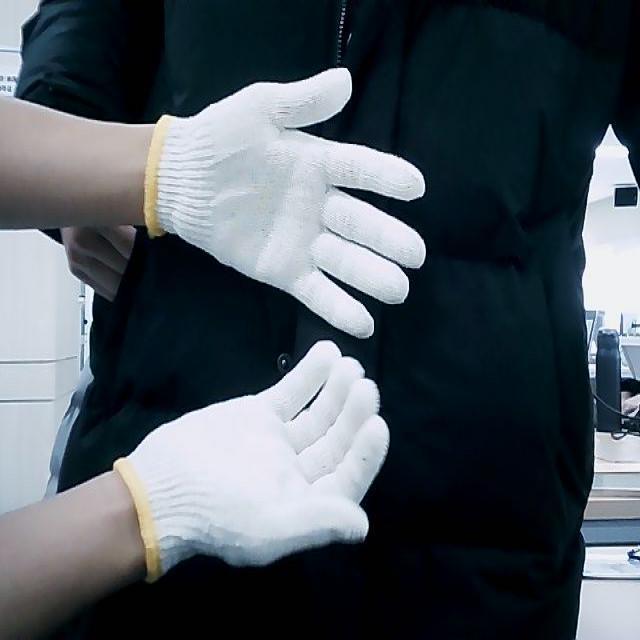gloves: (144, 64, 422, 332), (116, 340, 394, 584)
